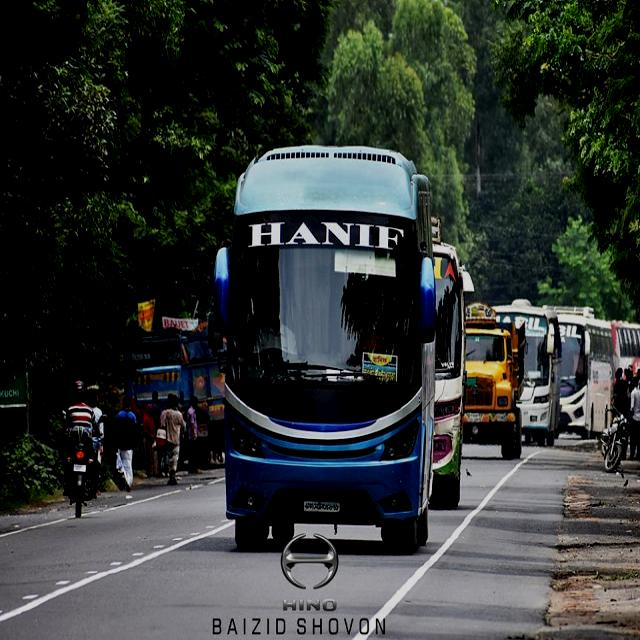bus: (216, 149, 437, 556)
